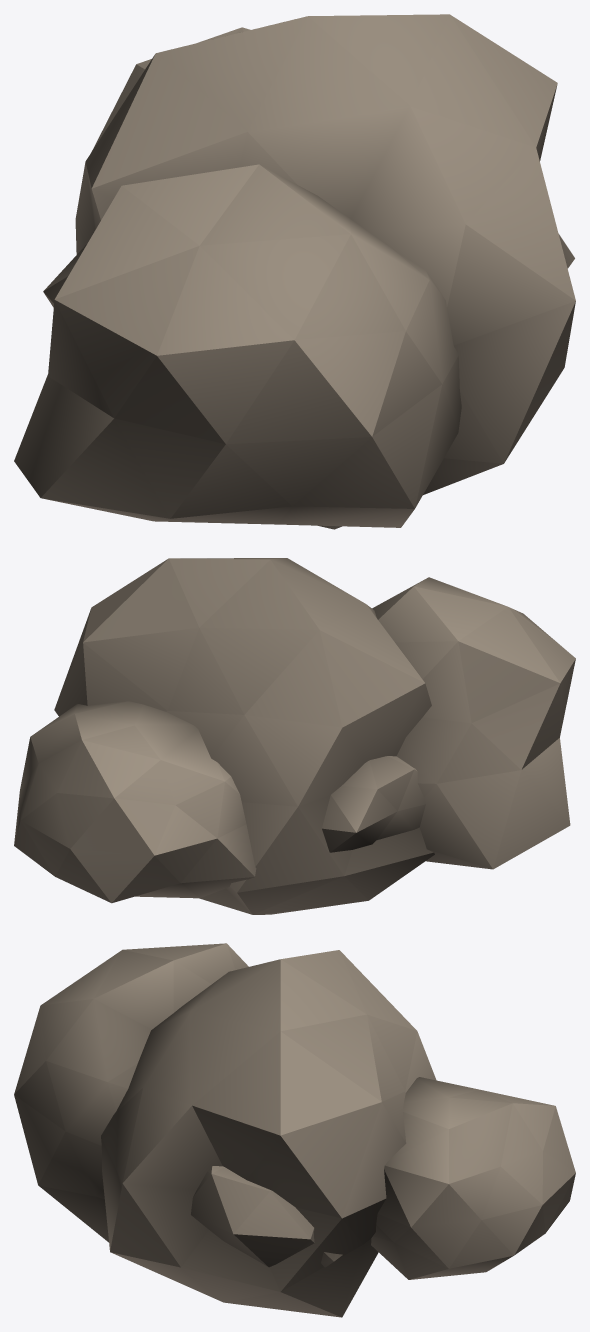
Rendered from rock_outcrop.glb.
3 renders of one model, top to bottom at view 1: azimuth 30°, elevation 25°; view 2: azimuth 150°, elevation 25°; view 3: azimuth 270°, elevation 25°, orthographic. The views are drawn at different scales.
Visible parts, largest first — view 1: rock_outcrop_mesh; view 2: rock_outcrop_mesh; view 3: rock_outcrop_mesh.
Boxes of the visible parts, x1,y1,x2,y2 form: rock_outcrop_mesh: [14, 14, 575, 529]; rock_outcrop_mesh: [14, 558, 575, 914]; rock_outcrop_mesh: [14, 943, 575, 1317].
Size of the model in its own units: 4.24 by 3.34 by 4.86.
